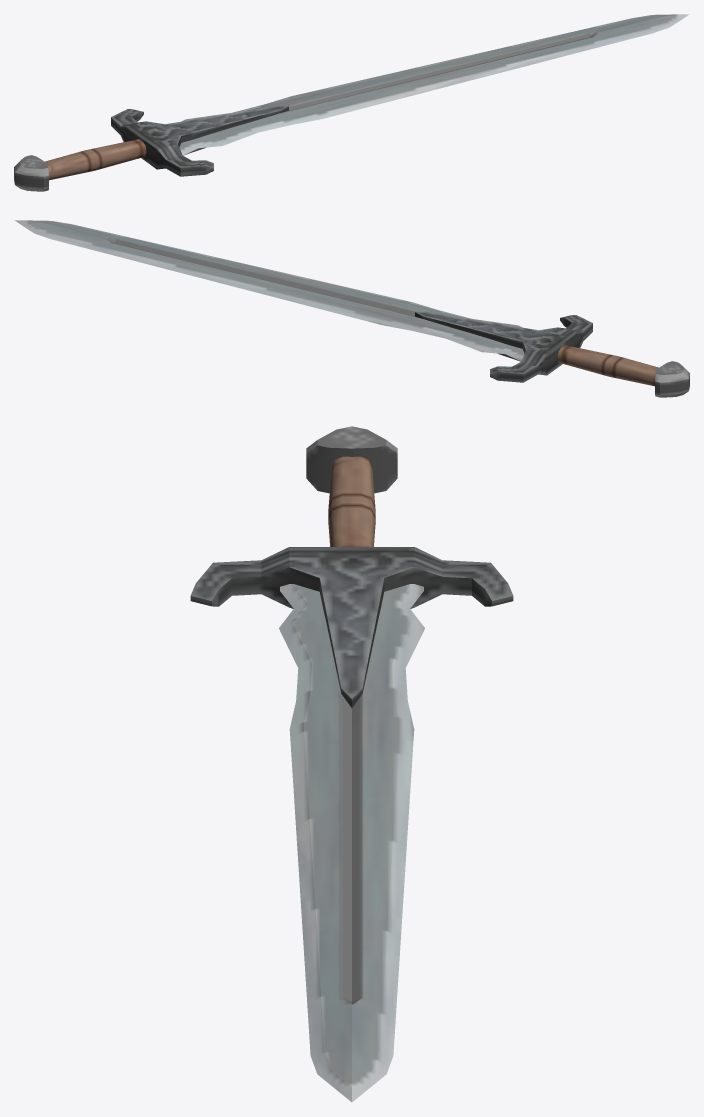
Rendered from sword.fbx.
3 renders of one model, top to bottom at view 1: azimuth 30°, elevation 25°; view 2: azimuth 150°, elevation 25°; view 3: azimuth 270°, elevation 25°, orthographic. The views are drawn at different scales.
Visible parts, largest first — view 1: sword; view 2: sword; view 3: sword.
Boxes of the visible parts, left/top/right/bottom form: sword: left=14, top=14, right=689, bottom=191; sword: left=14, top=220, right=689, bottom=397; sword: left=190, top=426, right=513, bottom=1102.
Size of the model in its own units: 58.47 by 1.88 by 12.11.
